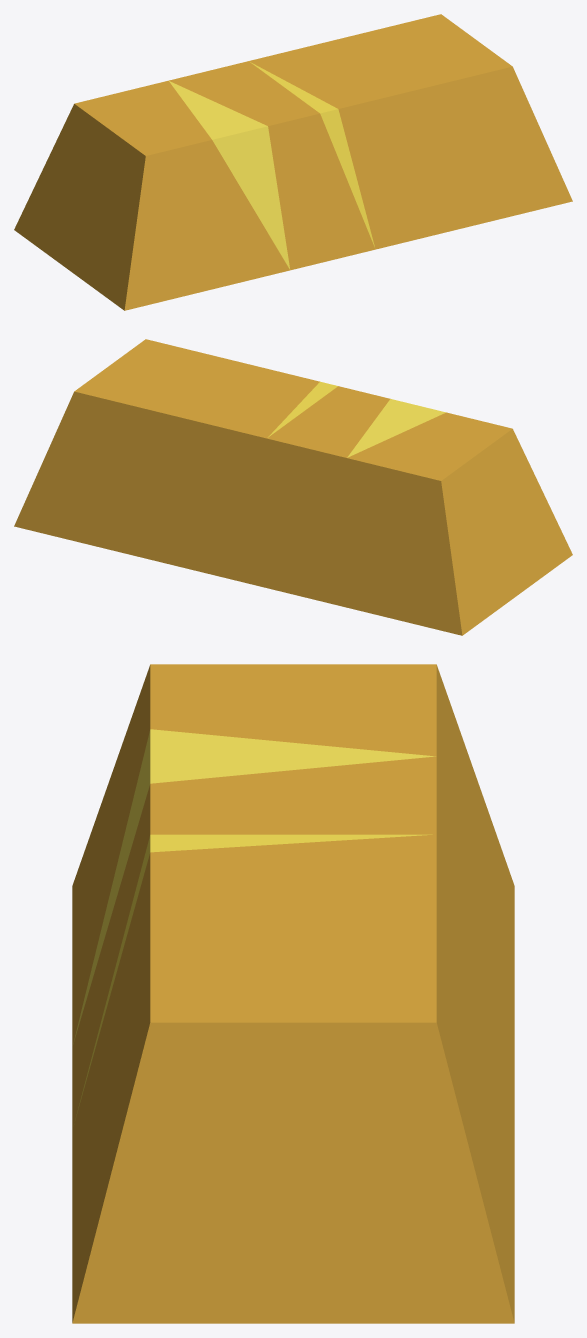
File: SafeGoldBar.fbx
3 renders of one model, top to bottom at view 1: azimuth 30°, elevation 25°; view 2: azimuth 150°, elevation 25°; view 3: azimuth 270°, elevation 25°, orthographic. The views are drawn at different scales.
Parts seen in each view (by area): view 1: Cube; view 2: Cube; view 3: Cube.
Boxes of the visible parts, x1,y1,x2,y2 form: Cube: [14, 14, 572, 310]; Cube: [14, 339, 572, 635]; Cube: [72, 664, 514, 1323].
Size of the model in its own units: 41.37 by 11.51 by 17.67.
